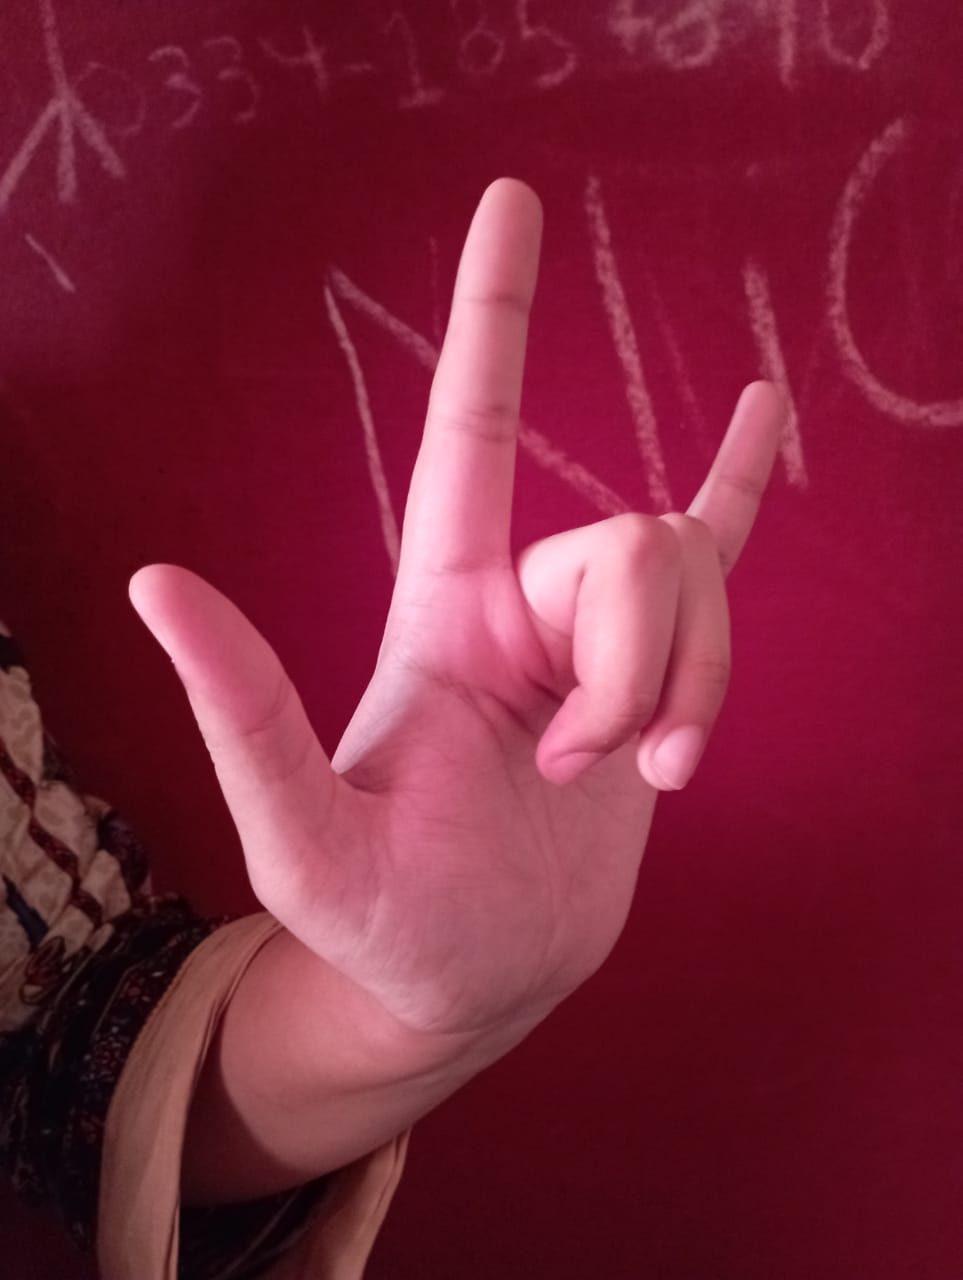Loved It: (123, 157, 805, 1047)
